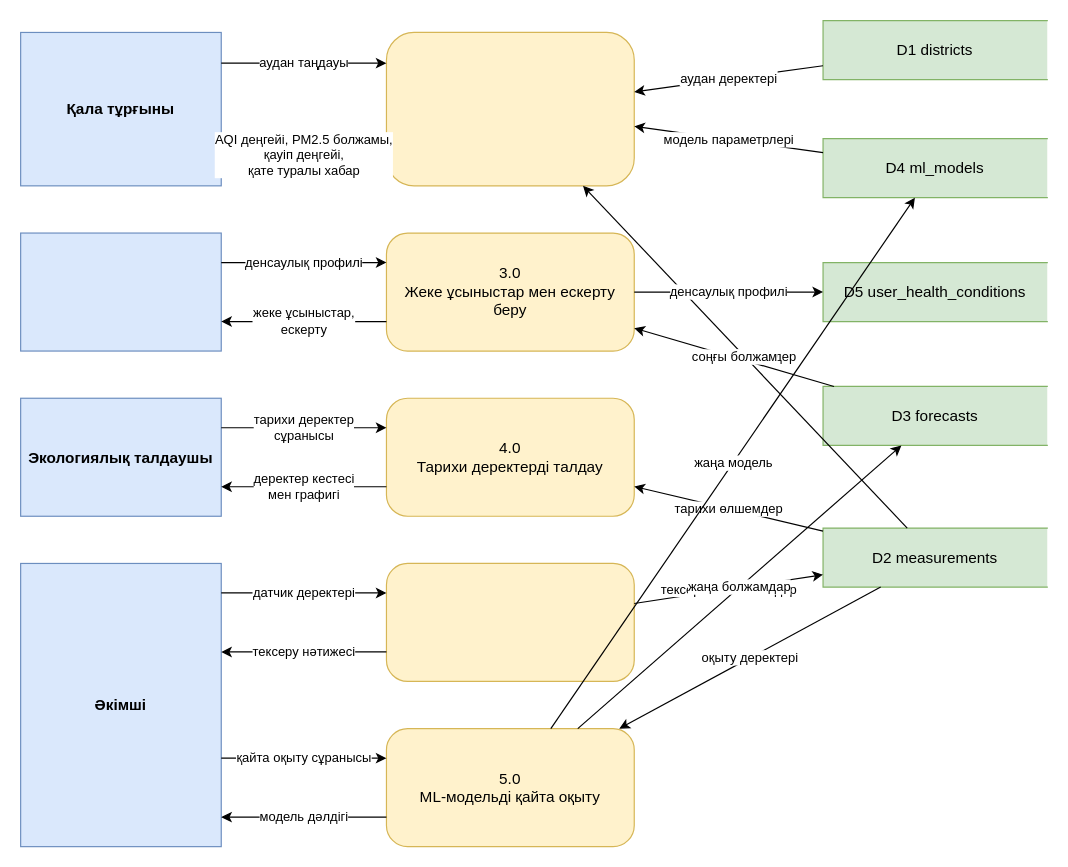
This 1068x867 diagram has some shape labels left out. The centre of each missing label's shape, as x and y in pixels:
"1.0 Датчик деректерін тексеру" goes at (x=509, y=621).
"2.0 Ауа сапасының болжамын көрсету" goes at (x=509, y=108).
"Қауіп тобындағы тұрғын" goes at (x=120, y=291).
